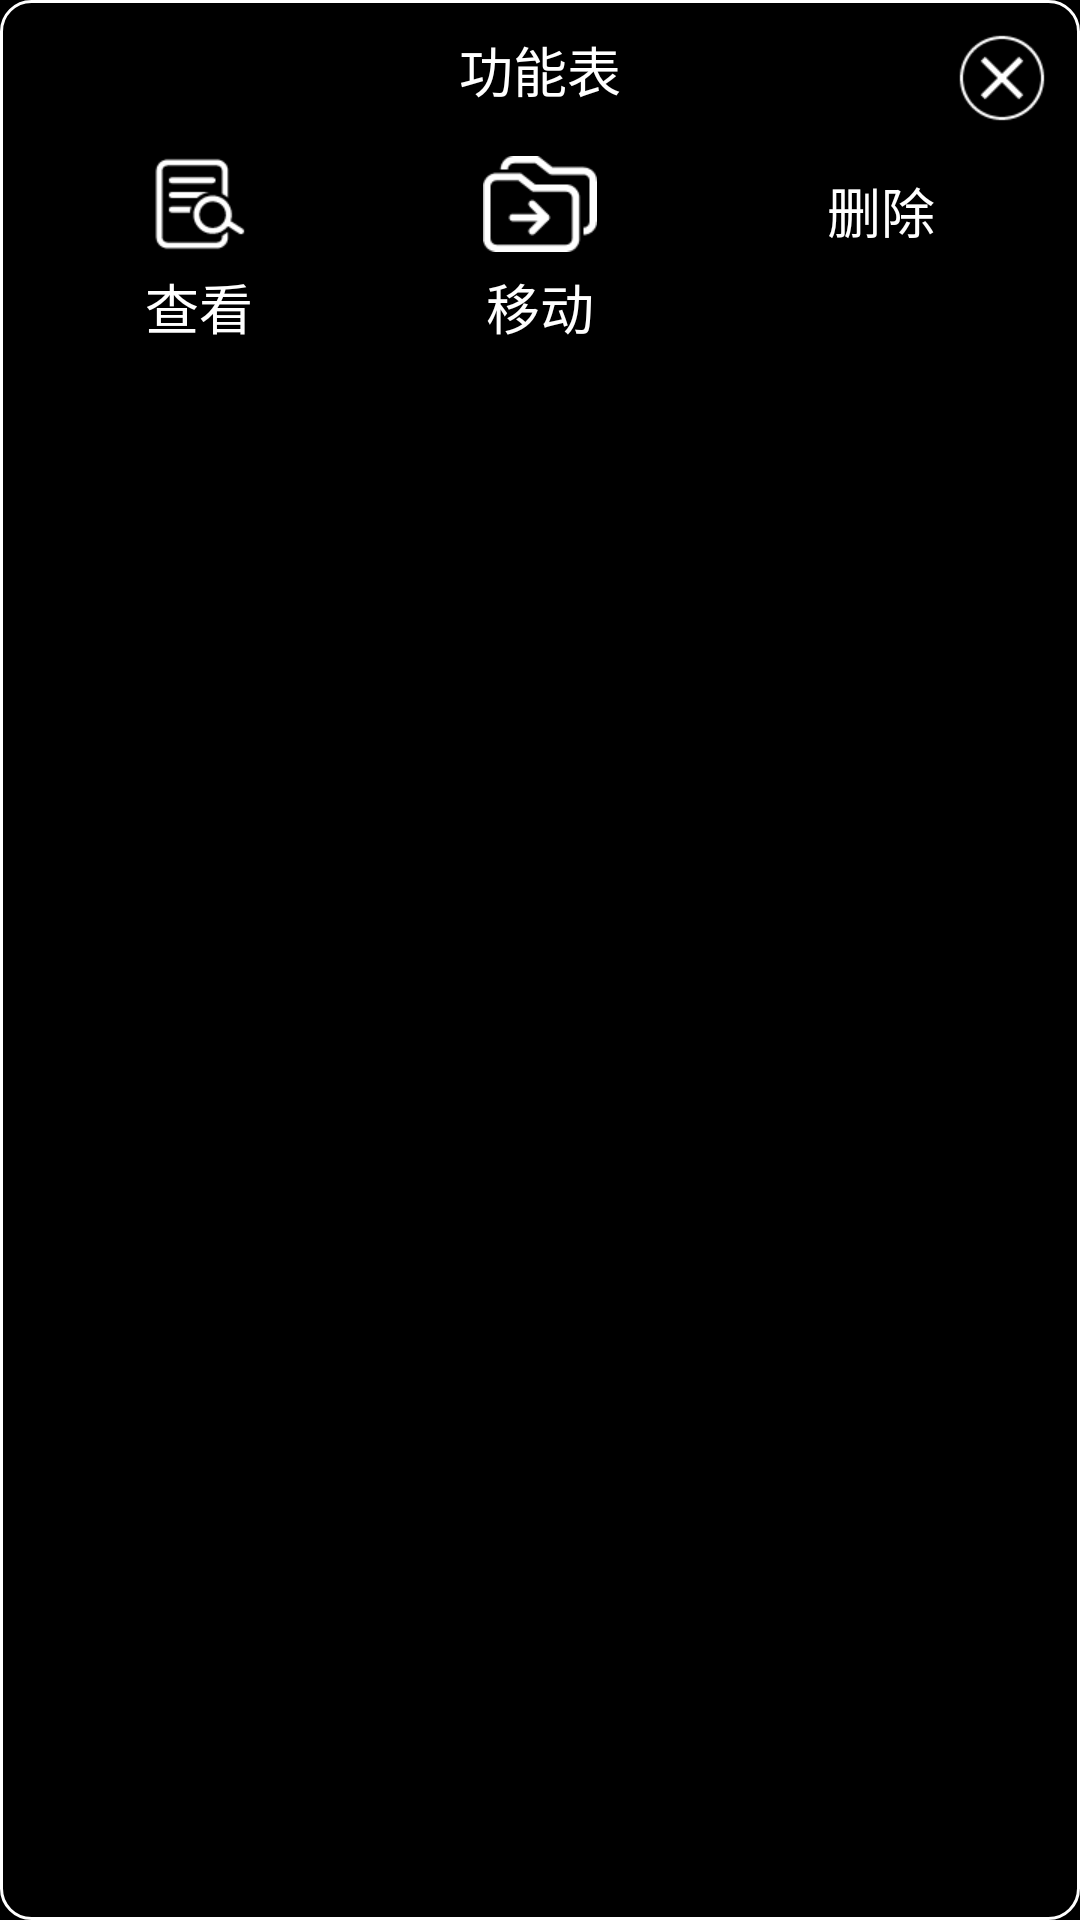

Where to tap for icons on this 1080w x 1920h app screen, as point (x, y):
close: point (1002, 78)
